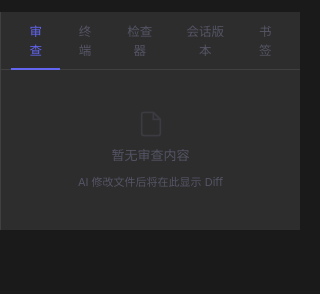
RightPanel versions › shows archived local versions from the active session project
The image size is (320, 294).
Click the button "会话版本" at (205, 41), box x1=170 y1=12 x2=241 y2=70
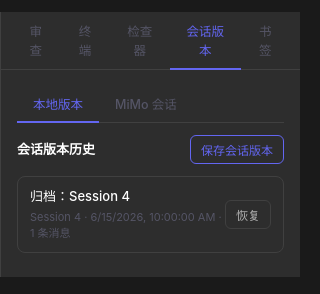
Check: the text "归档：Session 4" is shown, box x1=30 y1=188 x2=130 y2=204
